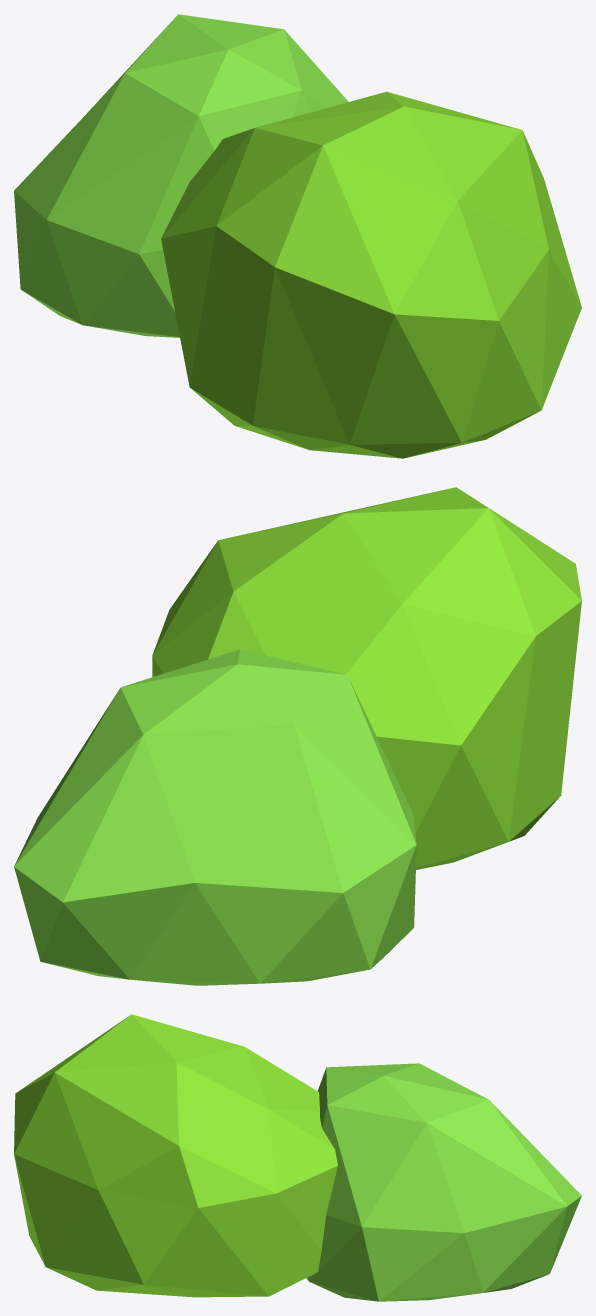
File: Bushes.fbx
The picture shows the model from 3 angles, top to bottom: view 1: azimuth 30°, elevation 25°; view 2: azimuth 150°, elevation 25°; view 3: azimuth 270°, elevation 25°; orthographic projection. The views are drawn at different scales.
Visible parts, largest first — view 1: Esfera geodésica, Esta no; view 2: Esta no, Esfera geodésica; view 3: Esfera geodésica, Esta no.
Boxes of the visible parts, x1,y1,x2,y2 form: Esfera geodésica: (161, 91, 581, 458); Esta no: (14, 14, 348, 337); Esta no: (14, 649, 416, 985); Esfera geodésica: (152, 487, 581, 869); Esfera geodésica: (14, 1014, 337, 1297); Esta no: (306, 1063, 581, 1301).
Size of the model in its own units: 734 by 541 by 1312.
